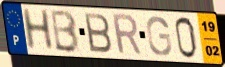0: (174, 15, 199, 60)
B: (50, 9, 81, 55), (82, 11, 113, 54)
G: (145, 15, 173, 57)
H: (20, 7, 56, 52)
R: (110, 13, 144, 57)
